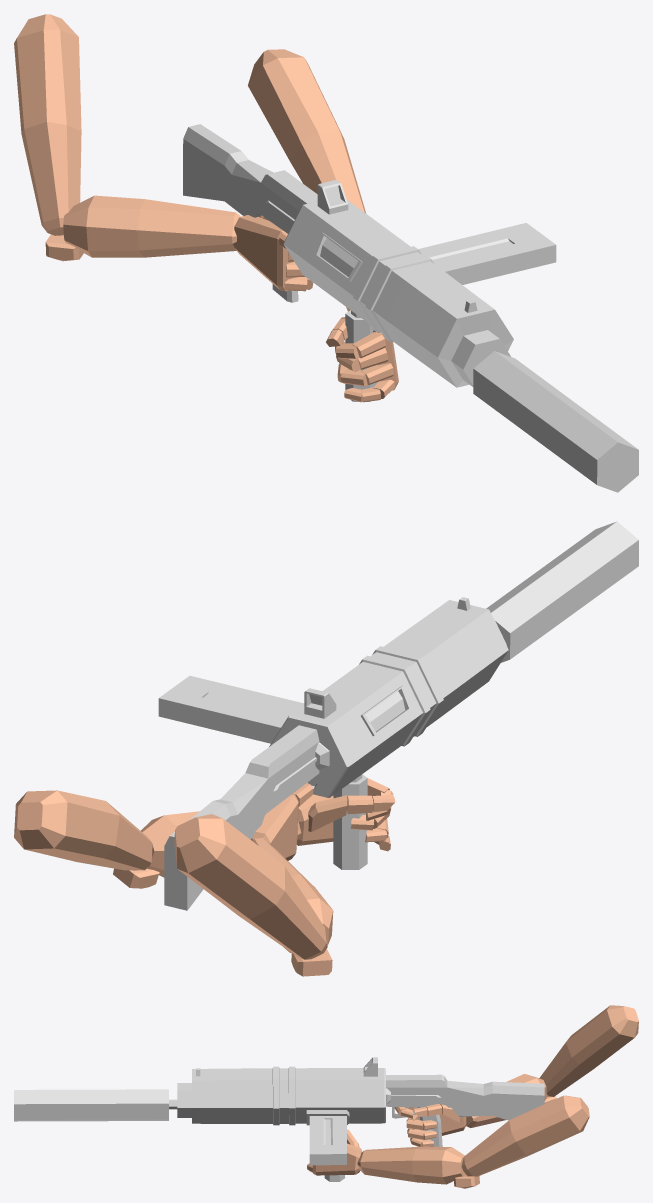
Rendered from AR_Hand_2.fbx.
3 renders of one model, top to bottom at view 1: azimuth 30°, elevation 25°; view 2: azimuth 150°, elevation 25°; view 3: azimuth 270°, elevation 25°, orthographic. The views are drawn at different scales.
Parts seen in each view (by area): view 1: Cylinder.003, Cube, Cube.001, Cube.019, Cube.003, Cube.021, Cube.040, Cube.002; view 2: Cylinder.003, Cube, Cube.019, Cube.003, Cube.021, Cube.001, Cube.020, Cube.039, Cube.023, Cube.040, Cube.002, Cube.022; view 3: Cylinder.003, Cube.019, Cube, Cube.020, Cube.003, Cube.039, Cube.001, Cube.021, Cube.022.
Part boxes in pixels (x1,y1,x2,y2): Cylinder.003: [183, 124, 638, 492]; Cube: [14, 14, 81, 235]; Cube.001: [63, 195, 241, 257]; Cube.019: [248, 49, 366, 213]; Cube.003: [418, 223, 556, 284]; Cube.021: [234, 215, 295, 291]; Cube.040: [320, 238, 358, 276]; Cube.002: [45, 234, 83, 261]; Cylinder.003: [164, 521, 638, 910]; Cube: [174, 814, 327, 959]; Cube.019: [14, 790, 152, 870]; Cube.003: [158, 675, 304, 743]; Cube.021: [250, 794, 298, 860]; Cube.001: [252, 838, 333, 952]; Cube.020: [141, 811, 301, 877]; Cube.039: [296, 794, 333, 845]; Cube.023: [308, 795, 347, 831]; Cube.040: [365, 691, 405, 731]; Cube.002: [291, 949, 332, 976]; Cube.022: [113, 868, 159, 888]; Cylinder.003: [14, 1057, 544, 1181]; Cube.019: [461, 1095, 589, 1176]; Cube: [539, 1005, 638, 1096]; Cube.020: [357, 1146, 465, 1184]; Cube.003: [309, 1116, 346, 1165]; Cube.039: [312, 1143, 362, 1175]; Cube.001: [466, 1074, 547, 1127]; Cube.021: [417, 1107, 466, 1135]; Cube.022: [454, 1175, 479, 1188].
Size of the model in its own units: 52.85 by 36.57 by 142.
